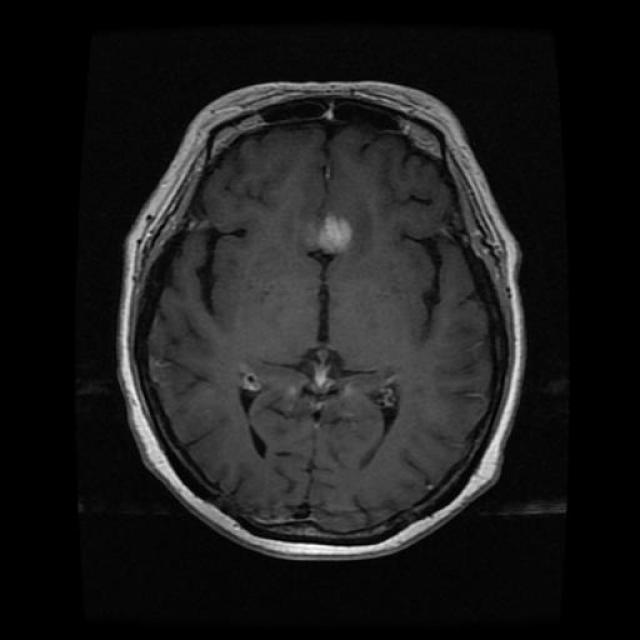Brain-Tumor: (309, 195, 371, 267)
